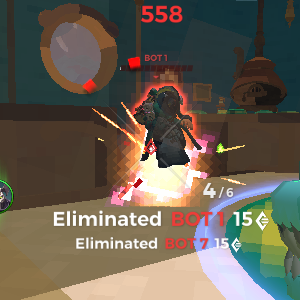model: (136, 78, 196, 175)
